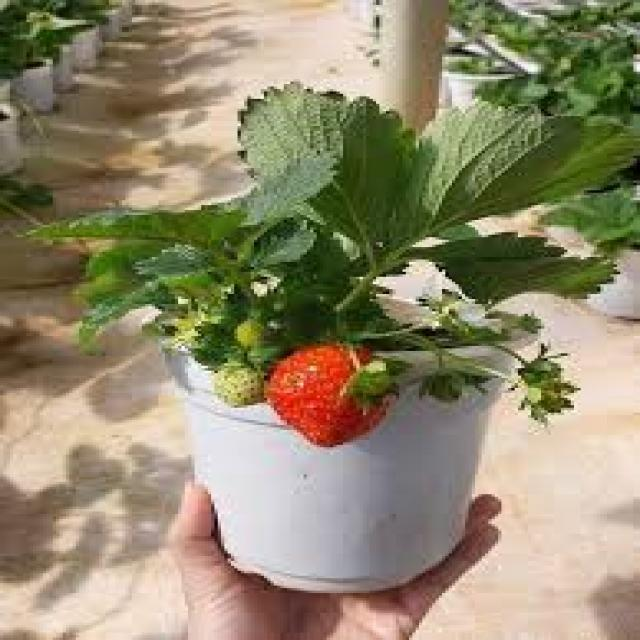Fruta sana: (276, 339, 388, 457)
